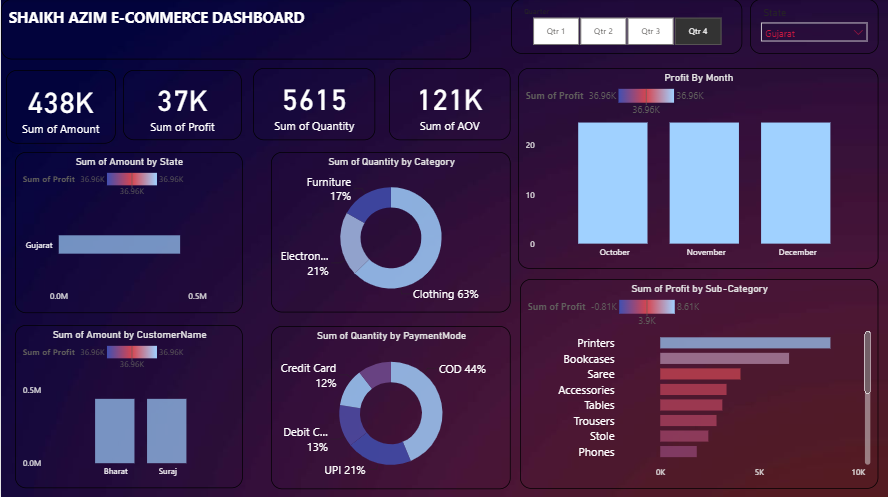

What the dashboard file says about the page in this screenshot:
{"tool":"powerbi","page":{"name":"Page 1","canvas":[1280,720],"ordinal":0},"visuals":[{"type":"textbox","box":[0,0,677,87.3],"z":0},{"type":"columnChart","title":"Profit By Month","fields":{"Y":["Avg(Details.Profit)"],"Category":["Orders.Order Date.Variation.Date Hierarchy.Month"]},"box":[744.1,99.1,519.1,288.9],"z":1000},{"type":"barChart","fields":{"Category":["Details.Sub-Category"],"Y":["Sum(Details.Profit)"]},"box":[747.5,403.1,515.7,302.4],"z":2000},{"type":"donutChart","fields":{"Category":["Details.Category"],"Y":["Sum(Details.Quantity)"]},"box":[388.1,220.2,345.5,231.2],"z":3000},{"type":"donutChart","fields":{"Category":["Details.PaymentMode"],"Y":["Sum(Details.Quantity)"]},"box":[388.1,470.7,345.5,235.4],"z":4000},{"type":"card","fields":{"Values":["Sum(Details.Amount)"]},"box":[6.7,102.5,157.9,105.8],"z":5000},{"type":"card","fields":{"Values":["Sum(Details.Quantity)"]},"box":[362.8,99.1,176.4,104.1],"z":6000},{"type":"card","fields":{"Values":["Sum(Details.Profit)"]},"box":[176.4,102.5,171.3,100.8],"z":7000},{"type":"card","fields":{"Values":["Sum(Details.AOV)"]},"box":[559.4,99.1,174.7,104.1],"z":8000},{"type":"barChart","fields":{"Y":["Sum(Details.Amount)"],"Category":["Orders.State"]},"box":[20.2,220.1,327.6,231.8],"z":9000},{"type":"columnChart","fields":{"Category":["Orders.CustomerName"],"Y":["Sum(Details.Amount)"]},"box":[20,470,328.3,235],"z":10000},{"type":"slicer","fields":{"Values":["Orders.Order Date.Variation.Date Hierarchy.Quarter"]},"box":[734.1,0,332.6,79],"z":11000},{"type":"slicer","fields":{"Values":["Orders.State"]},"box":[1078.4,0,184.8,79],"z":12000}]}

Visuals, with their boxes in screenshot pixels (x1, y1, x2, y2), scaled from the page's 1280x720 canvas onto the 888x497 screenshot:
textbox: 0 0 470 60
"Profit By Month" columnChart: 516 68 876 268
barChart - Details.Sub-Category x Sum(Details.Profit): 519 278 876 487
donutChart - Details.Category x Sum(Details.Quantity): 269 152 509 312
donutChart - Details.PaymentMode x Sum(Details.Quantity): 269 325 509 487
card - Sum(Details.Amount): 5 71 114 144
card - Sum(Details.Quantity): 252 68 374 140
card - Sum(Details.Profit): 122 71 241 140
card - Sum(Details.AOV): 388 68 509 140
barChart - Sum(Details.Amount) x Orders.State: 14 152 241 312
columnChart - Orders.CustomerName x Sum(Details.Amount): 14 324 242 487
slicer - Orders.Order Date.Variation.Date Hierarchy.Quarter: 509 0 740 55
slicer - Orders.State: 748 0 876 55
